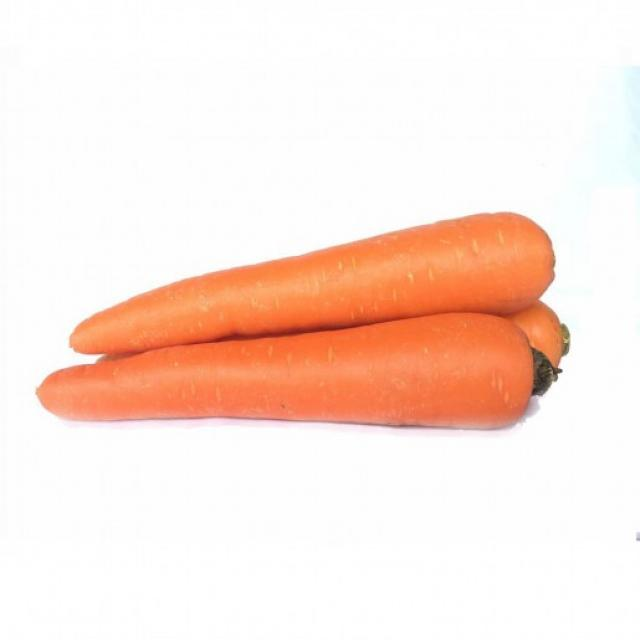Carrot: (66, 210, 561, 351), (39, 301, 561, 431)
